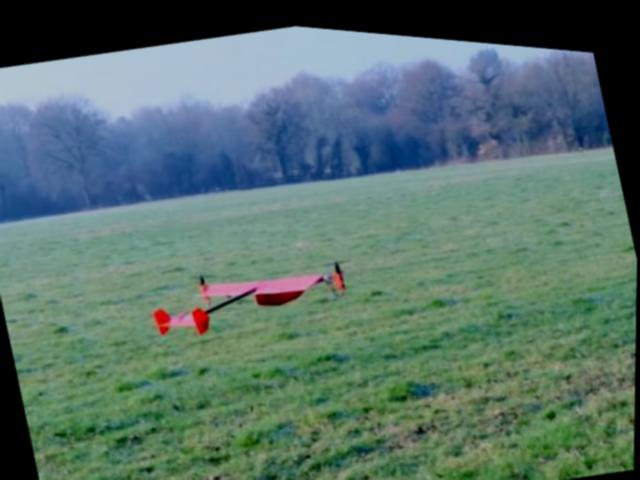uav: (146, 237, 337, 346)
